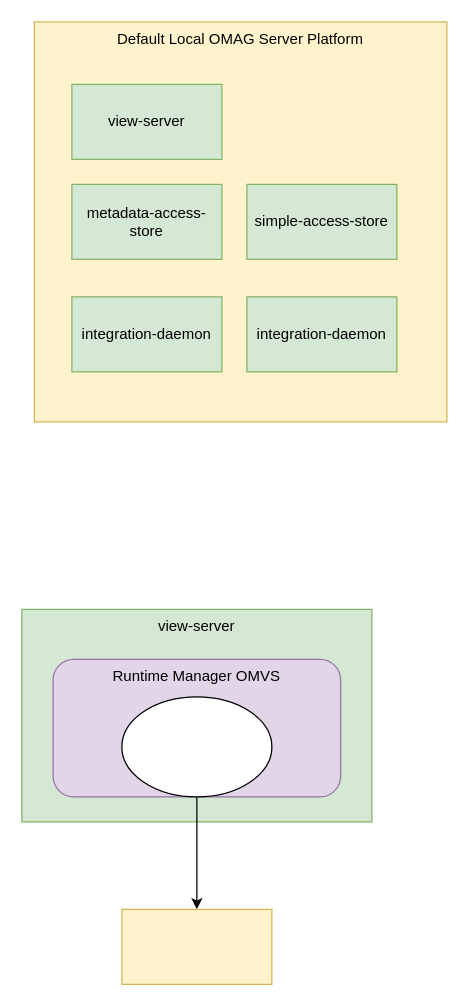
Some shapes in this 469 by 1006 pixel diagram are drawn without their labels. The centre of each missing label's shape, as x and y in pixels:
"OMAG Server Platform" goes at [196,946].
"OMAG Server Platform Connector" goes at [196,746].
